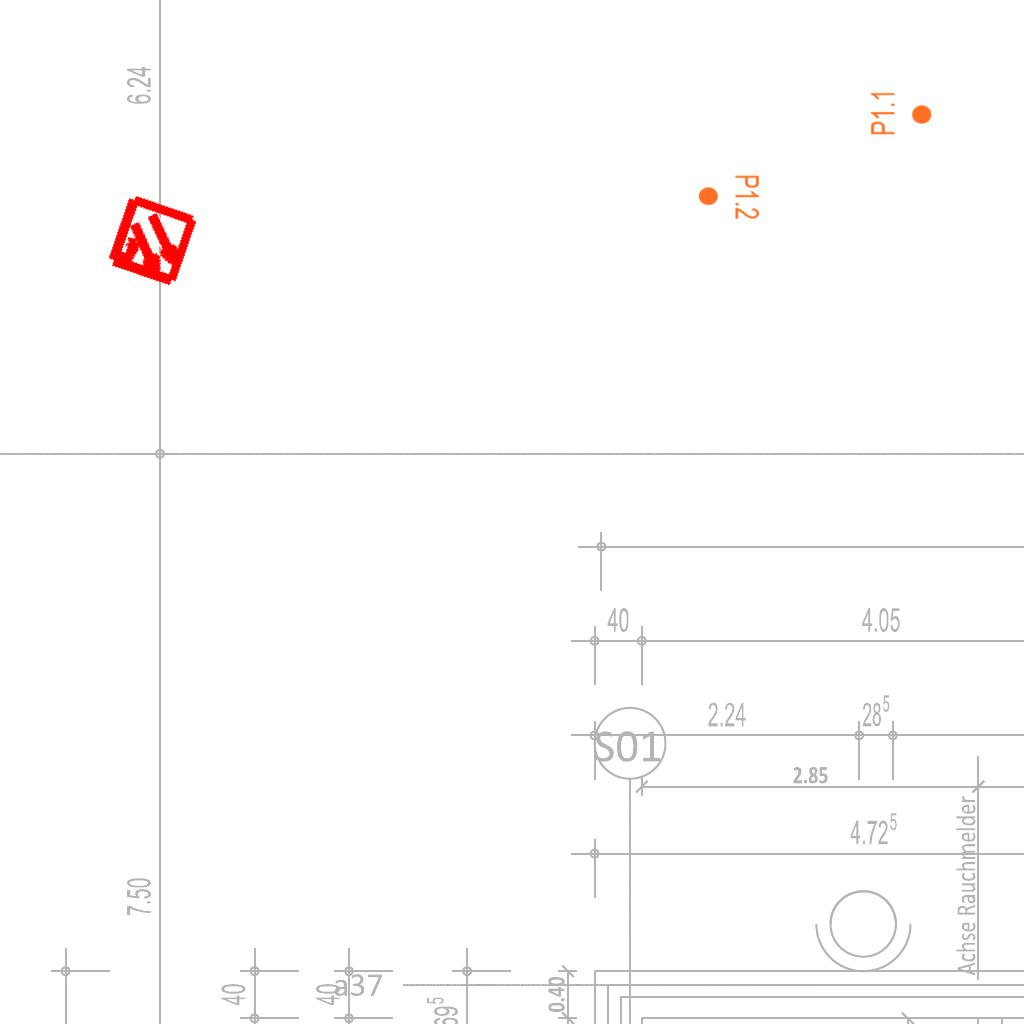Downlight_LED_Einbauleuchten_Flur: (869, 90, 933, 136), (697, 174, 761, 220)
OT_Multisensormelder_(Kombination_RMO_WMD): (79, 170, 224, 315)
